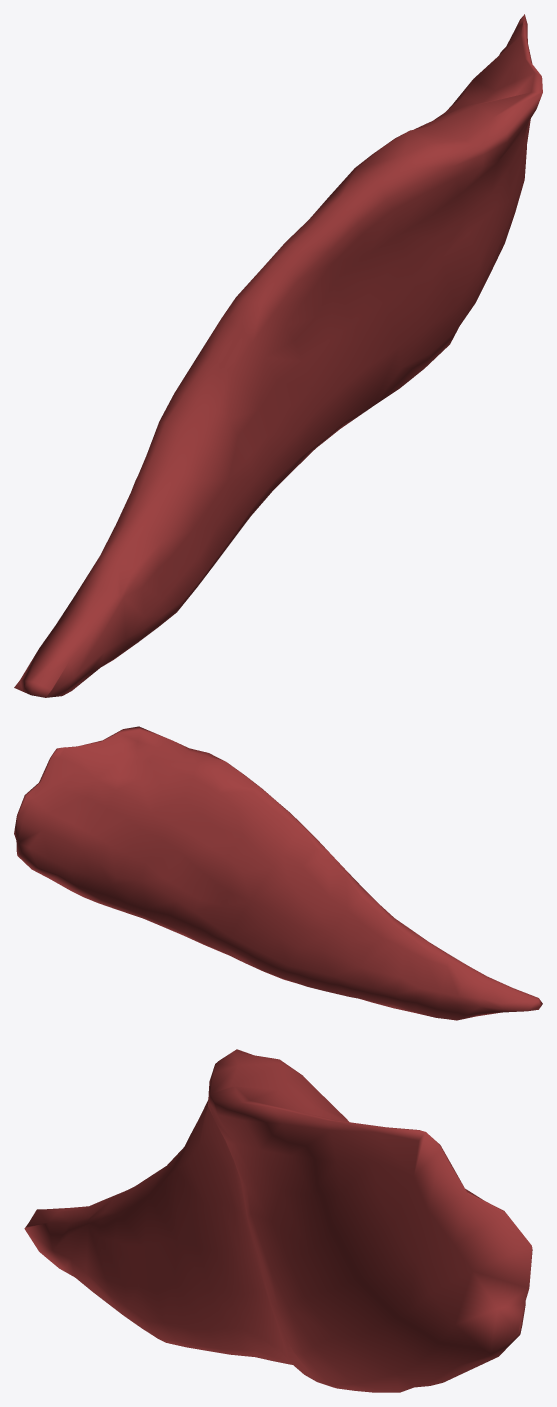
File: piriformis-fascia-r.glb
3 renders of one model, top to bottom at view 1: azimuth 30°, elevation 25°; view 2: azimuth 150°, elevation 25°; view 3: azimuth 270°, elevation 25°, orthographic. The views are drawn at different scales.
Visible parts, largest first — view 1: Piriformis fascia.r; view 2: Piriformis fascia.r; view 3: Piriformis fascia.r.
Part boxes in pixels (x1,y1,x2,y2): Piriformis fascia.r: (14,14,542,697); Piriformis fascia.r: (14,726,542,1020); Piriformis fascia.r: (24,1049,532,1392).
Bounding box in the file's own units: 0.1107 × 0.064 × 0.0598.
